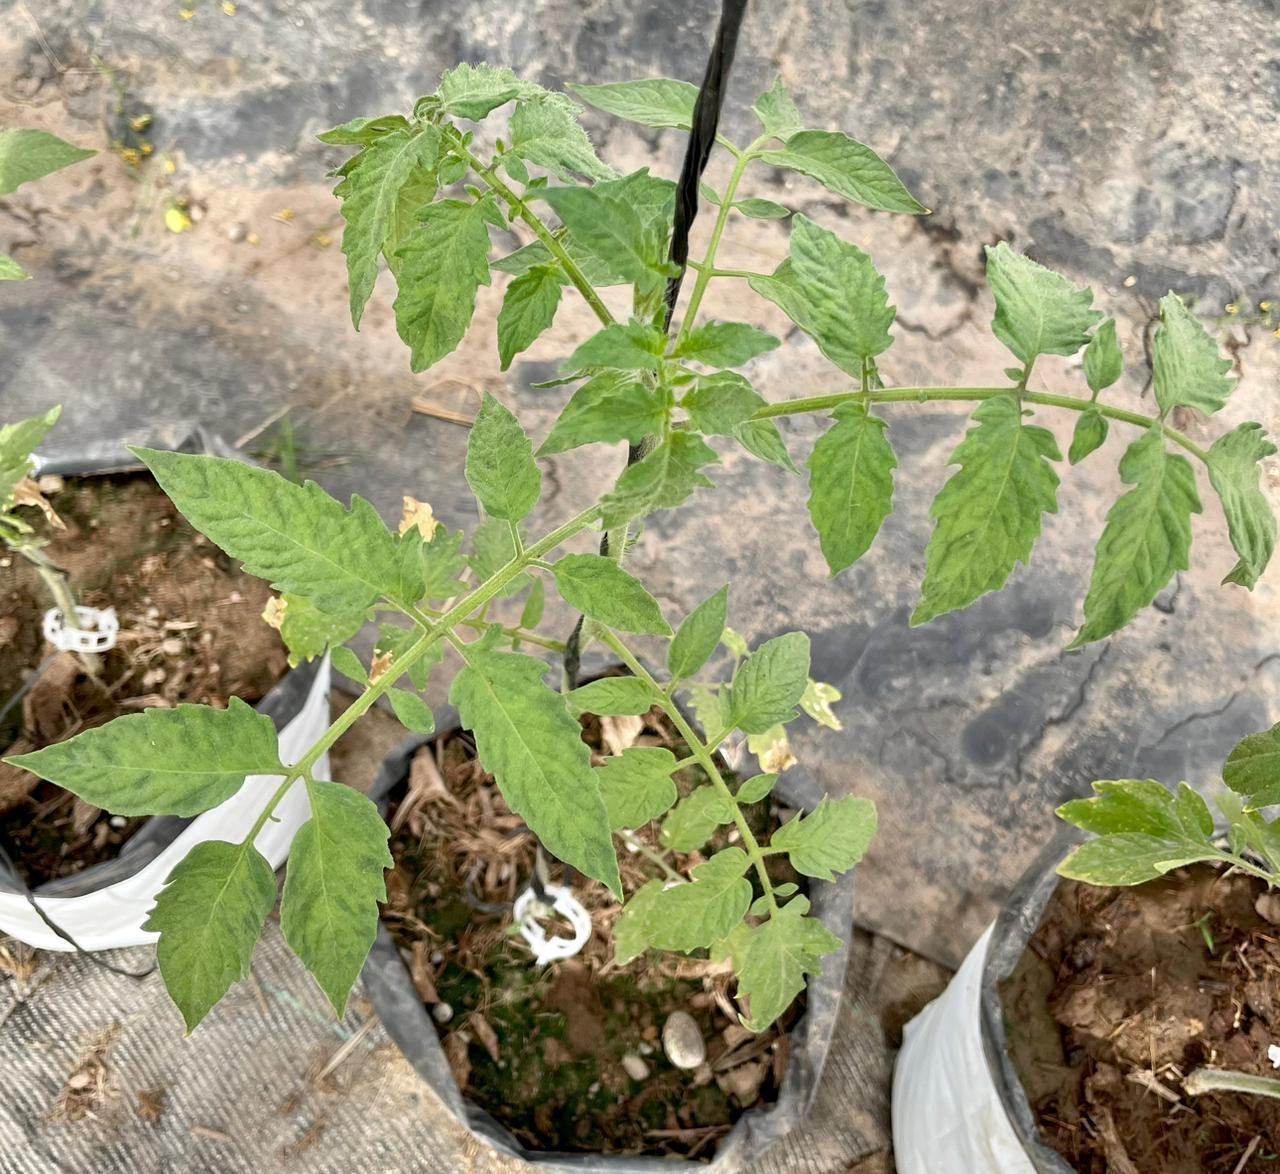Rugose leaf: (124, 446, 471, 666), (448, 652, 628, 903), (910, 395, 1060, 625), (13, 698, 282, 817), (1074, 425, 1202, 646), (280, 777, 392, 1015), (145, 840, 278, 1032), (334, 125, 440, 326), (398, 197, 500, 370), (791, 215, 895, 378), (615, 847, 753, 962), (988, 243, 1100, 382), (807, 402, 898, 572), (760, 130, 928, 215), (737, 895, 840, 1032), (600, 430, 718, 530), (682, 370, 795, 470), (545, 185, 660, 282), (540, 370, 668, 455), (1153, 292, 1235, 417), (1057, 780, 1212, 845), (465, 395, 540, 525), (553, 553, 670, 633), (510, 95, 615, 183), (770, 797, 877, 880), (1057, 833, 1225, 885), (730, 632, 809, 732), (497, 262, 568, 370), (597, 747, 678, 829), (435, 62, 545, 123), (572, 78, 698, 130), (668, 585, 726, 680), (562, 320, 662, 372), (678, 322, 780, 368), (568, 675, 652, 715)
Rugose stem: (392, 545, 533, 675), (762, 388, 1153, 427), (507, 195, 612, 326), (318, 675, 398, 753), (527, 505, 602, 560)
